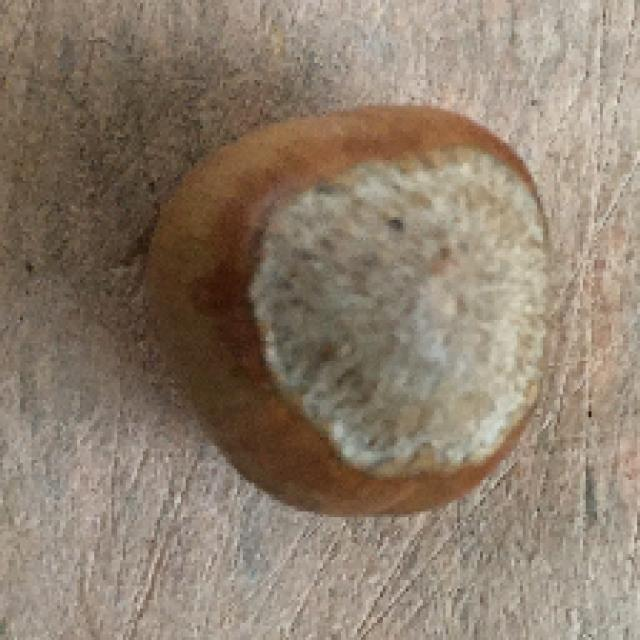qualityHazelnut: (136, 94, 556, 519)
